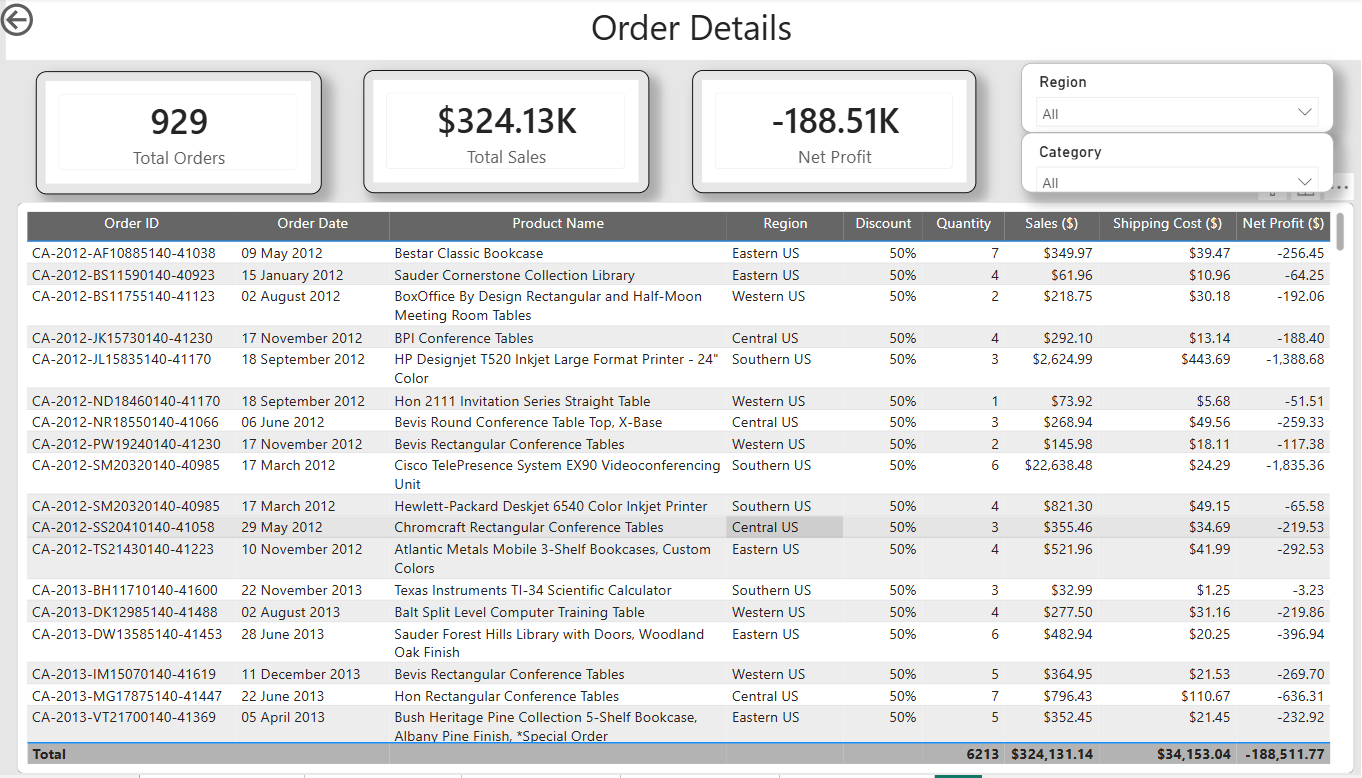

What the dashboard file says about the page in this screenshot:
{"tool":"powerbi","page":{"name":"Order Details","canvas":[1280,720],"ordinal":4},"visuals":[{"type":"textbox","box":[9.6,0,1271,57.5],"z":0},{"type":"actionButton","box":[0,0,100,40],"z":1000},{"type":"cardVisual","fields":{"Data":["_Measures.Total orders"]},"box":[38.3,68.3,264.7,113.8],"z":2000},{"type":"cardVisual","fields":{"Data":["_Measures.Total Sales"]},"box":[341.4,67.1,264.7,113.8],"z":3000},{"type":"cardVisual","fields":{"Data":["_Measures.Profit after Shipping and Returns"]},"box":[645.7,67.1,263.5,113.8],"z":4000},{"type":"tableEx","fields":{"Values":["Orders.Order ID","Orders.Order Date","Products.Product Name","Address.Region","Orders.Discount","Sum(Orders.Quantity)","Sum(Orders.Sales)","Sum(Orders.Shipping Cost)","_Measures.Profit after Shipping and Returns"]},"box":[19.5,189.6,1240.4,529.9],"z":5000},{"type":"slicer","fields":{"Values":["Address.Region"]},"box":[950.7,59.7,289.6,64.9],"z":6000},{"type":"slicer","fields":{"Values":["Products.Category"]},"box":[950.7,124.7,289.6,55.8],"z":7000}]}

Visuals, with their boxes in screenshot pixels (x1, y1, x2, y2), scaled from the page's 1280x720 canvas onto the 1362x778 screenshot:
textbox: [left=10, top=0, right=1361, bottom=62]
actionButton: [left=0, top=0, right=106, bottom=43]
cardVisual - _Measures.Total orders: [left=41, top=74, right=322, bottom=197]
cardVisual - _Measures.Total Sales: [left=363, top=73, right=645, bottom=195]
cardVisual - _Measures.Profit after Shipping and Returns: [left=687, top=73, right=967, bottom=195]
tableEx - Orders.Order ID x Orders.Order Date: [left=21, top=205, right=1341, bottom=777]
slicer - Address.Region: [left=1012, top=65, right=1320, bottom=135]
slicer - Products.Category: [left=1012, top=135, right=1320, bottom=195]
